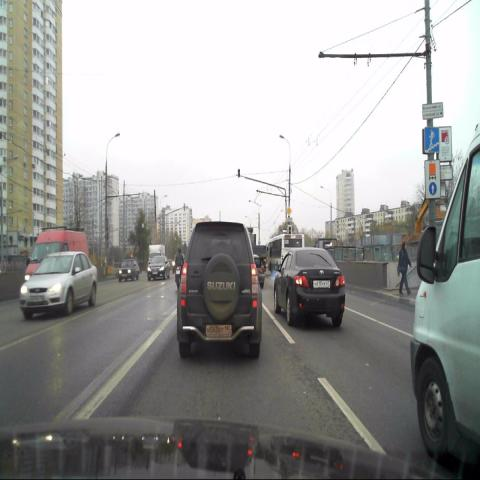4_8_2: (425, 159, 441, 198)
6_6: (424, 127, 439, 152)
